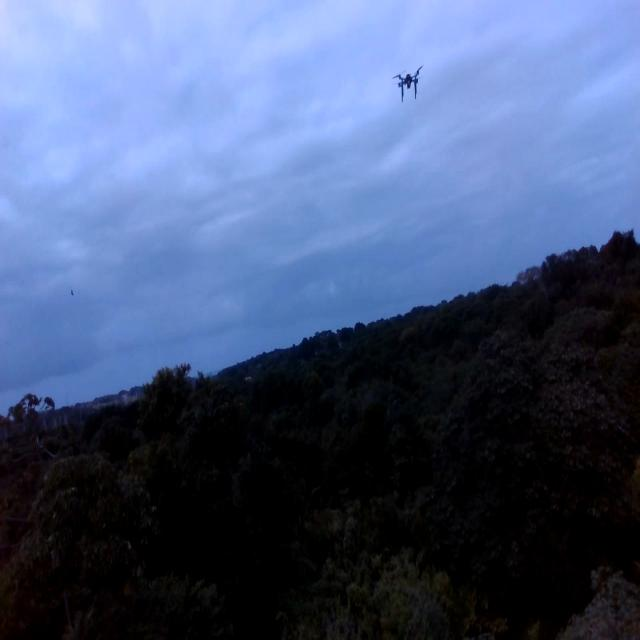-uav-: (391, 61, 428, 112)
